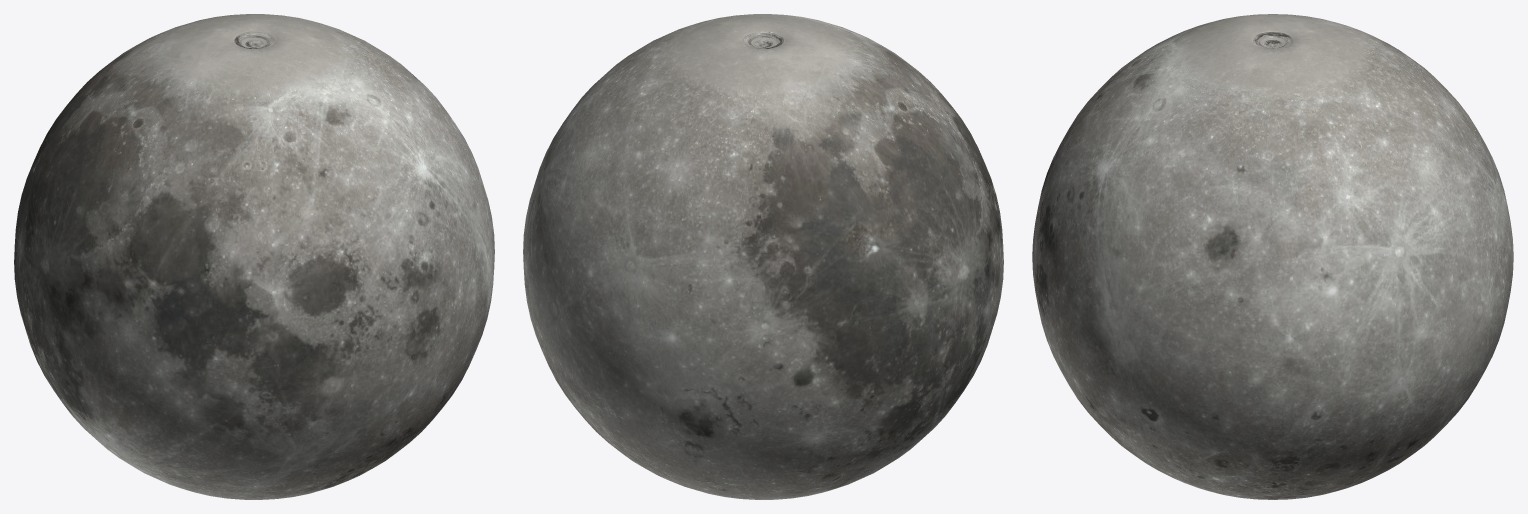
The model's file is Moon5.glb.
The picture shows the model from 3 angles, left to right: view 1: azimuth 30°, elevation 25°; view 2: azimuth 150°, elevation 25°; view 3: azimuth 270°, elevation 25°; orthographic projection.
Bounding box in the file's own units: 28.73 × 28.93 × 28.73.
1 material, 1 textured.
